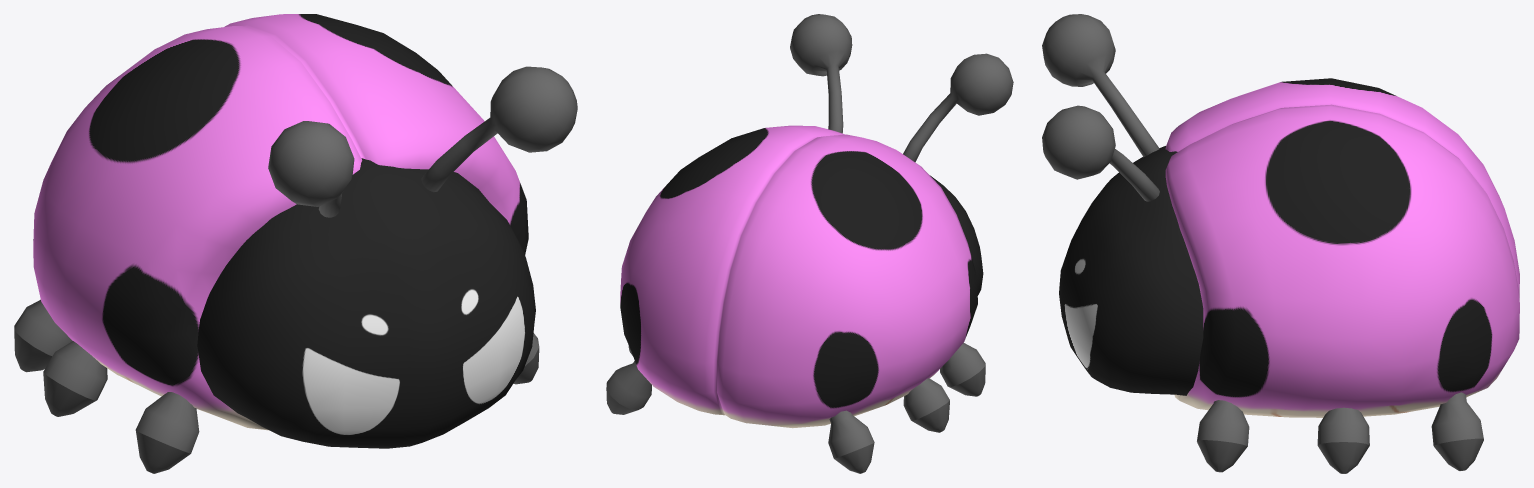
Rendered from ladybug_pink.fbx.
3 views of the same model, side by side, from view 1: azimuth 30°, elevation 25°; view 2: azimuth 150°, elevation 25°; view 3: azimuth 270°, elevation 25° (orthographic). The views are drawn at different scales.
Visible parts, largest first — view 1: bd, hd, ant, lg; view 2: bd, ant, lg, hd; view 3: bd, hd, ant, lg.
Boxes of the visible parts, <box> form: bd: <box>33,14,528,430</box>; hd: <box>197,158,535,448</box>; ant: <box>268,66,577,217</box>; lg: <box>14,299,539,473</box>; bd: <box>620,125,977,428</box>; ant: <box>790,14,1013,162</box>; lg: <box>606,342,985,473</box>; hd: <box>930,175,983,295</box>; bd: <box>1165,78,1519,417</box>; hd: <box>1059,146,1203,395</box>; ant: <box>1042,14,1159,201</box>; lg: <box>1197,392,1483,473</box>.
Bounding box in the file's own units: 115 × 100 × 129.
3 materials, 2 textured.
